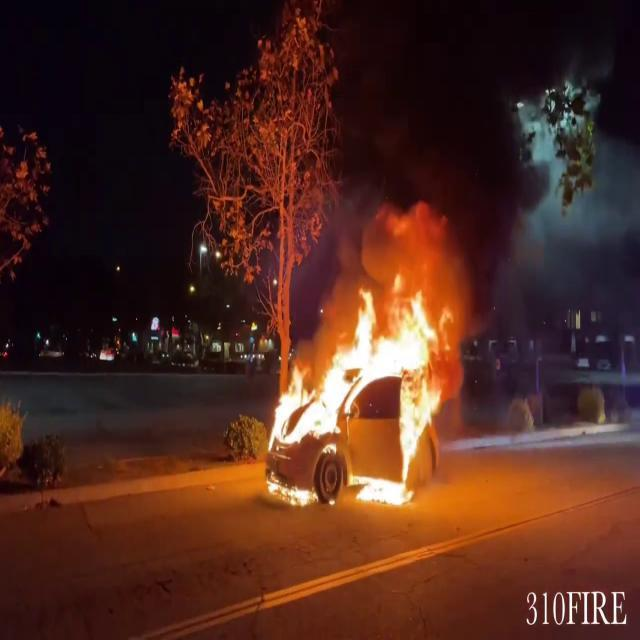Fire: (261, 266, 451, 514)
Smoke: (323, 0, 569, 308)
